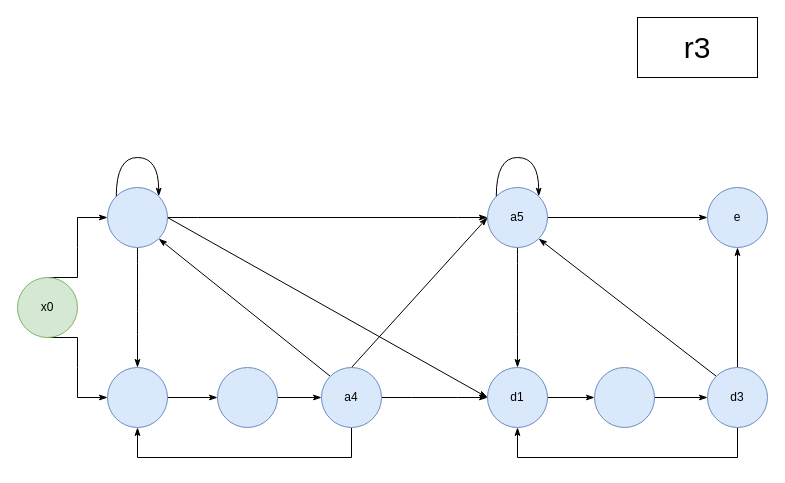
Some shapes in this 785 by 483 pixel diagram are drawn without their labels. The centre of each missing label's shape, as x and y in pixels:
a1: point (137, 217)
a2: point (137, 397)
a3: point (247, 397)
d2: point (624, 397)
